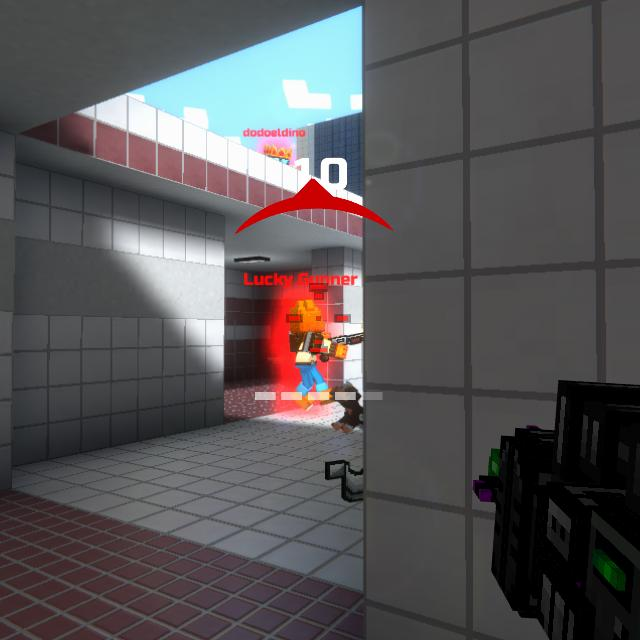Enemy: (288, 300, 348, 410), (264, 143, 293, 166)
